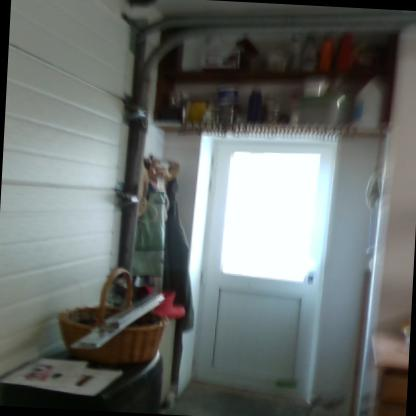closed: (177, 123, 352, 409)
